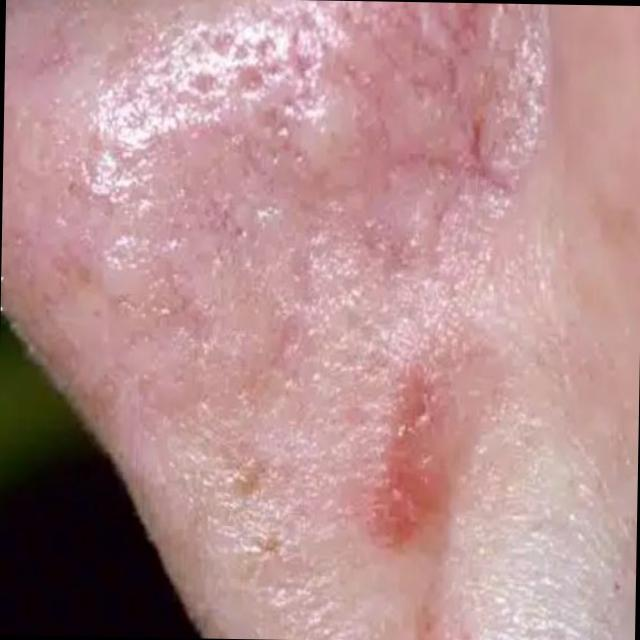Eczema: (64, 22, 550, 566)
